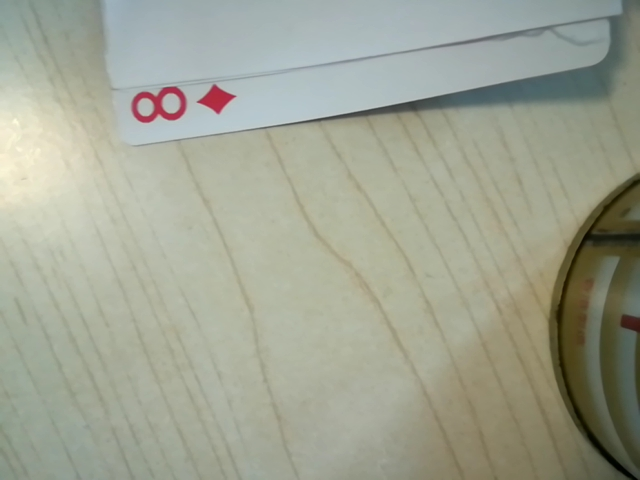fk 8: (120, 74, 234, 136)
